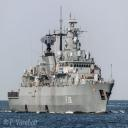Fragata: (8, 5, 116, 116)
